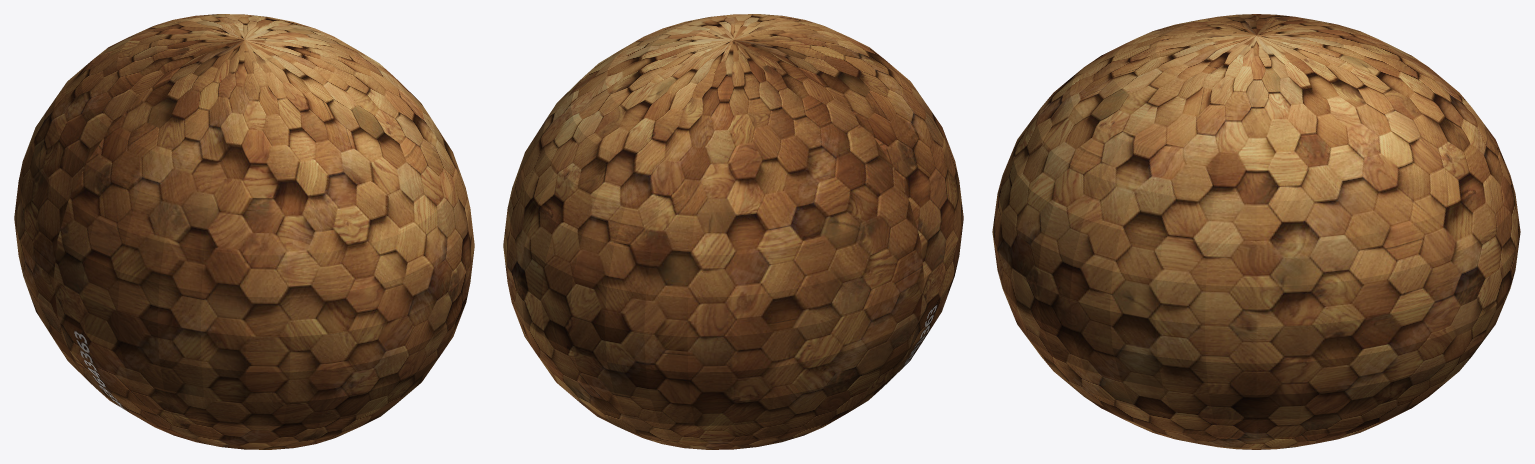
File: Globe.glb
3 views of the same model, side by side, from view 1: azimuth 30°, elevation 25°; view 2: azimuth 150°, elevation 25°; view 3: azimuth 270°, elevation 25° (orthographic). The views are drawn at different scales.
Parts seen in each view (by area): view 1: Sphere; view 2: Sphere; view 3: Sphere.
Part boxes in pixels (box(x1,y1,x2,y2)): Sphere: box(14, 14, 474, 449); Sphere: box(503, 14, 963, 449); Sphere: box(992, 14, 1520, 449).
Size of the model in its own units: 3.2 by 3.08 by 3.75.
Materials: 1 (1 with a texture image).
